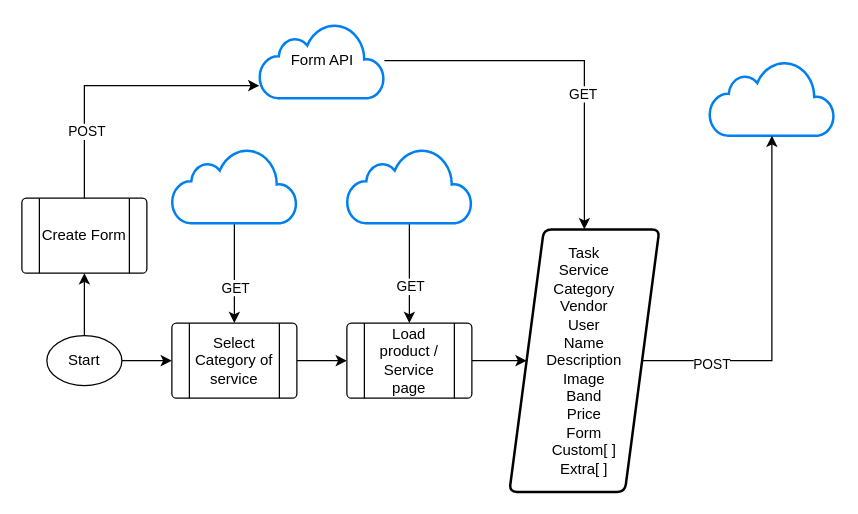
Image size: 858x514. Some labels were removed from this diagram. Each missing label, with the centre of its shape:
Category Filter API: (408,185)
Task API: (771,97)
Vendor Settings API: (234,185)
